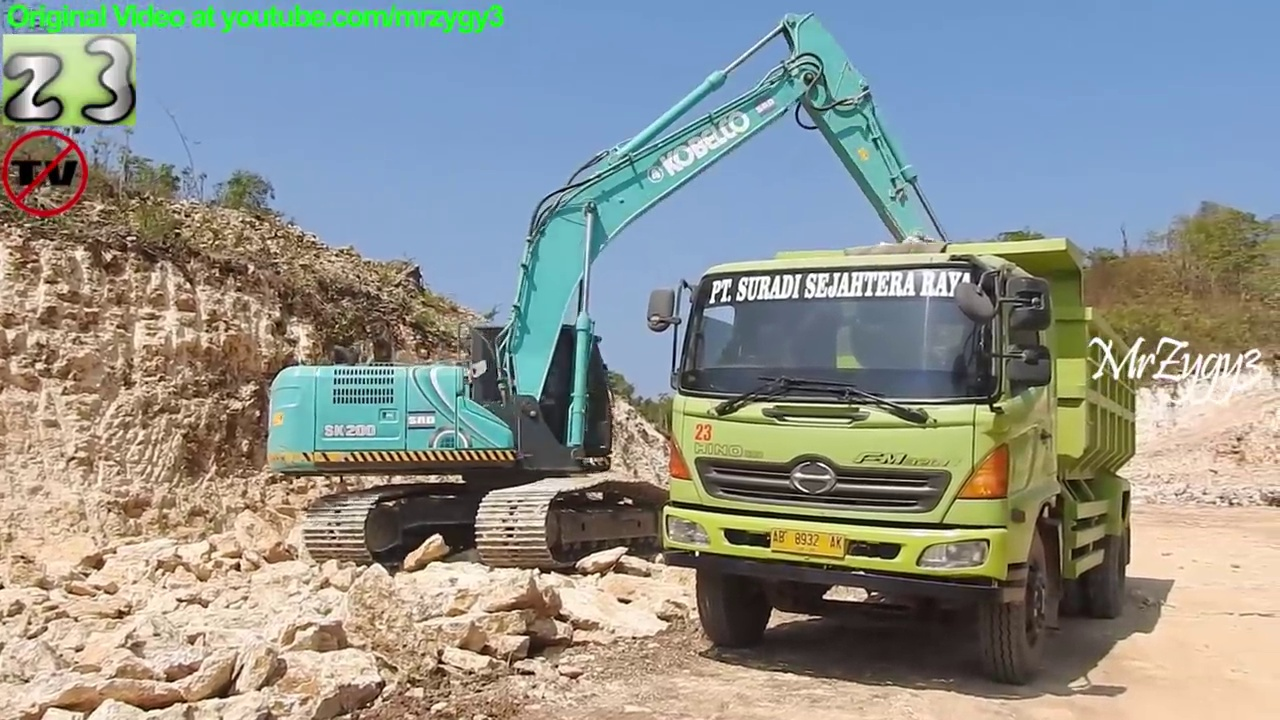excavator: (258, 7, 1019, 586)
truck: (641, 233, 1151, 688)
